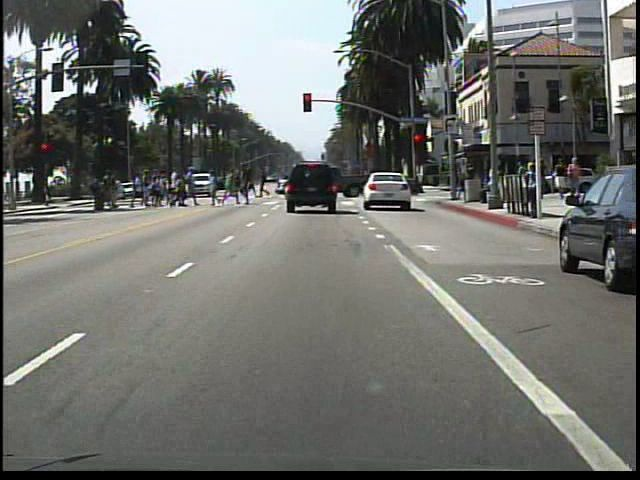person: (519, 159, 539, 221), (567, 155, 586, 201), (551, 155, 569, 199)
